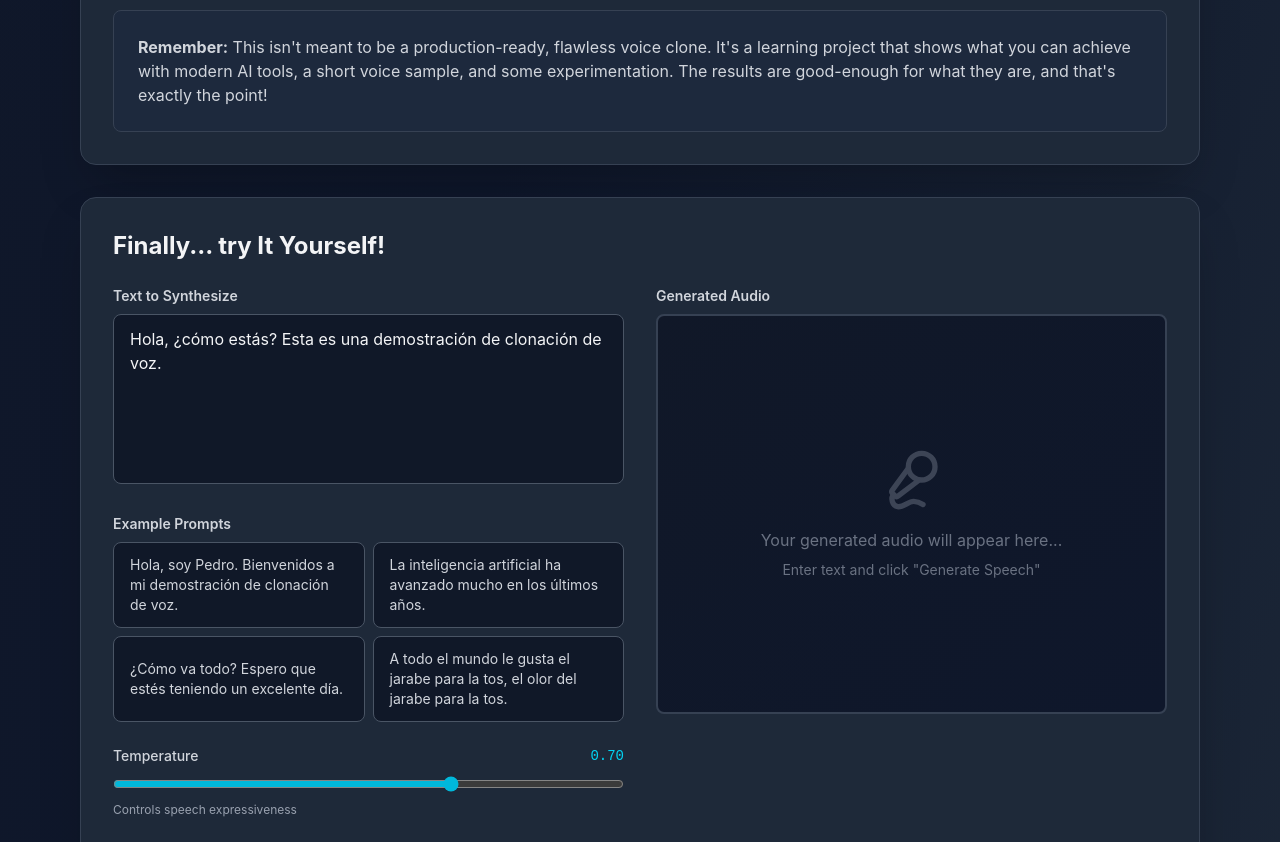
App › sends the text and settings to the model and plays the result
The width and height of the screenshot is (1280, 842).
(page scrolled)
Replace the text in the text box with "Hola" at (368, 398), box [113,314,624,484]
(page scrolled)
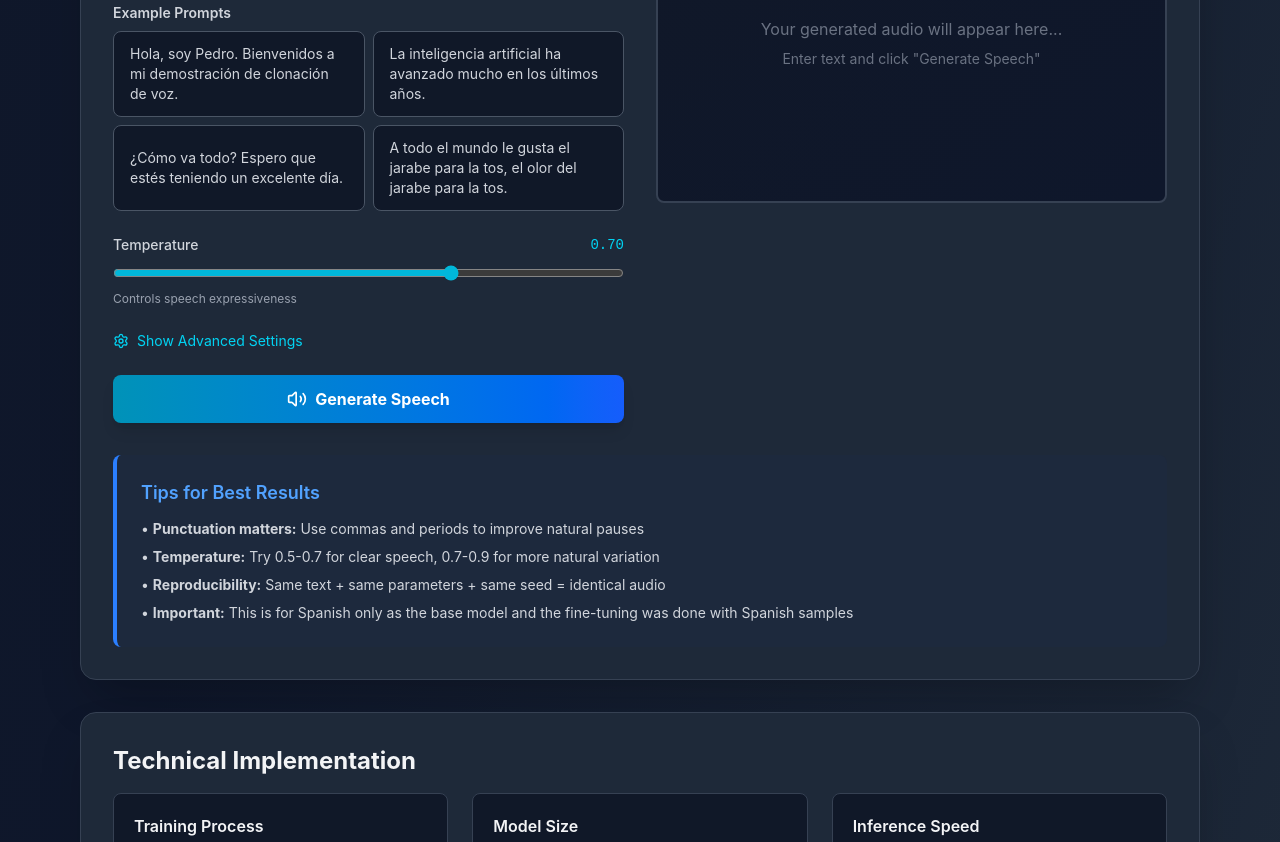
Click the button "Generate Speech" at (368, 398), box [113,374,624,422]
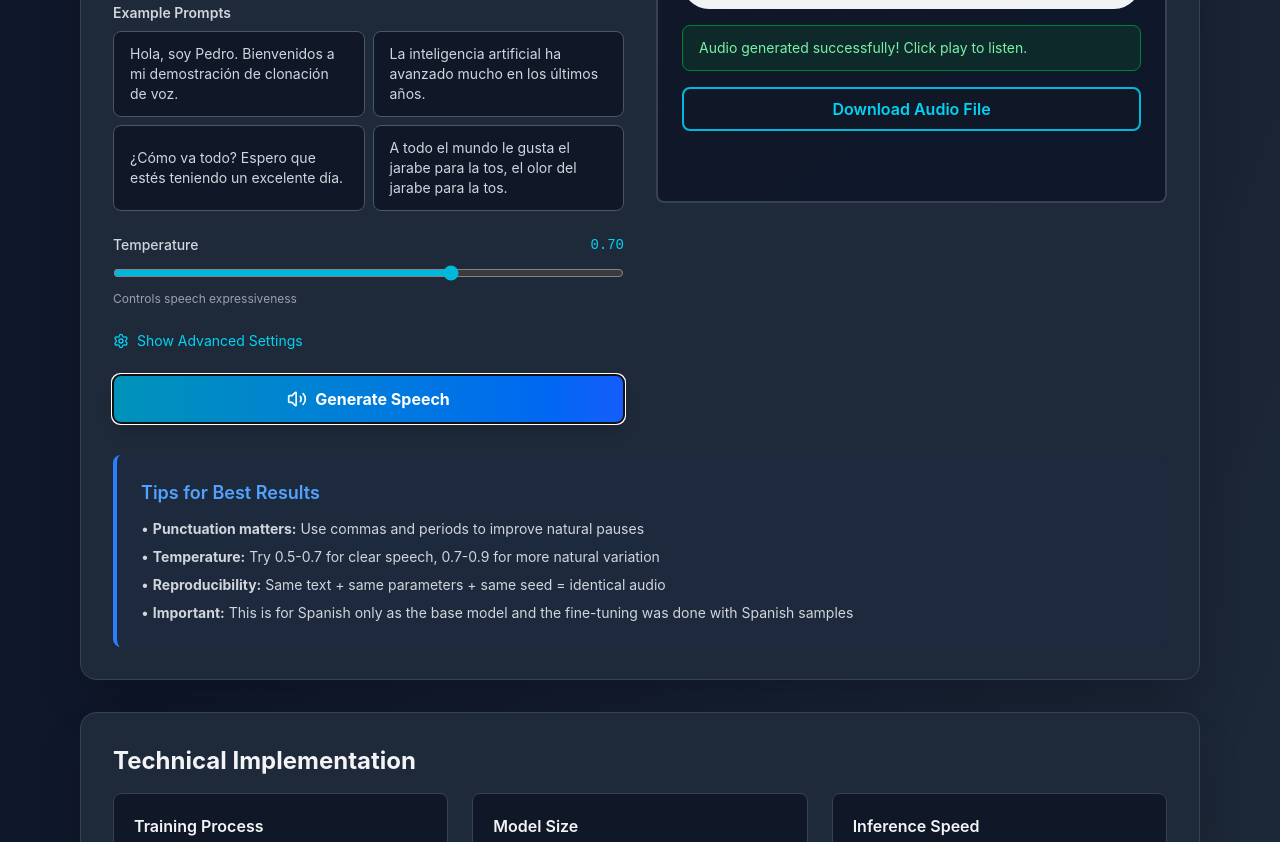
Result: the text "Audio generated successfully! Click play to listen." is shown at [682,24,1141,70]
